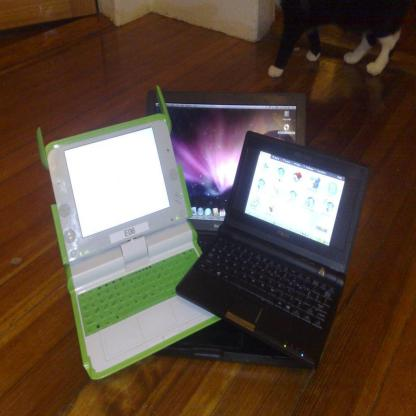board: (39, 85, 221, 381), (175, 130, 370, 364), (146, 90, 306, 362)
